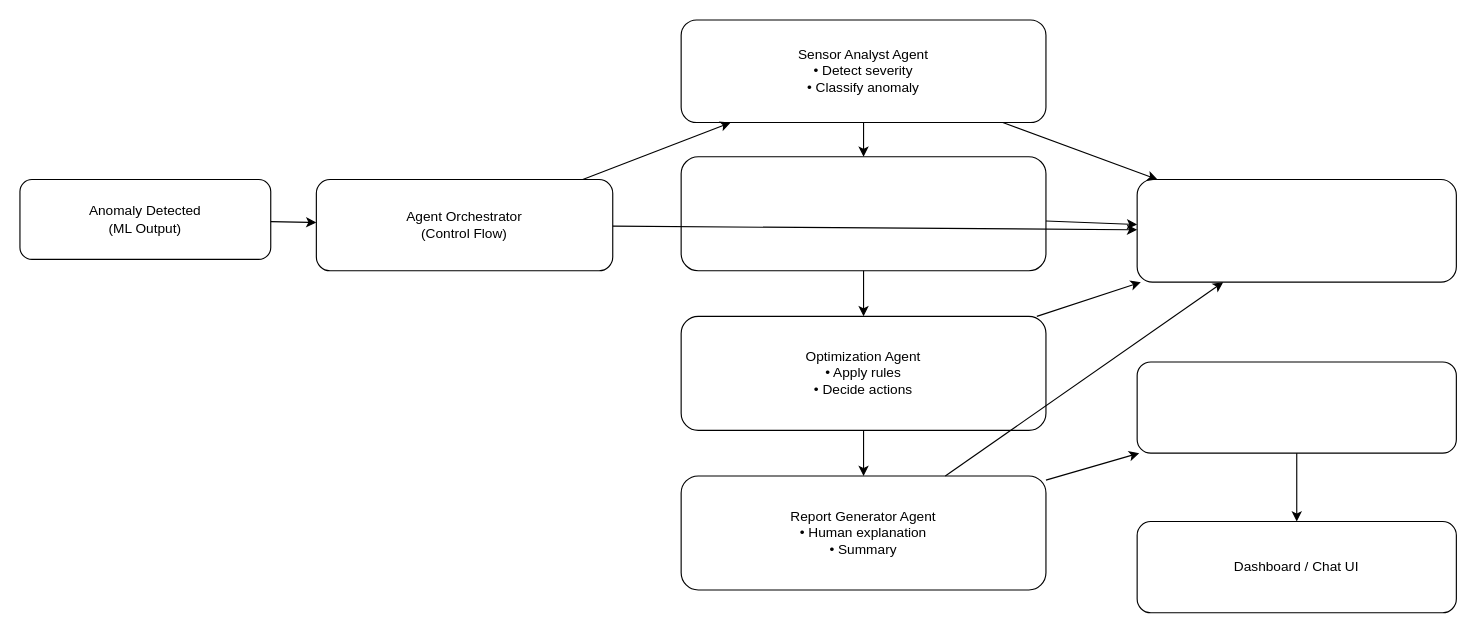
Image size: 1476x633. Some labels were removed from this diagram. Each missing label, with the box of its shape:
Root Cause Agent • Correlate sensors • Infer cause: (680, 156, 1046, 271)
Shared Memory (Context + History): (1136, 178, 1456, 282)
Structured Decision Output (JSON): (1136, 361, 1456, 453)
